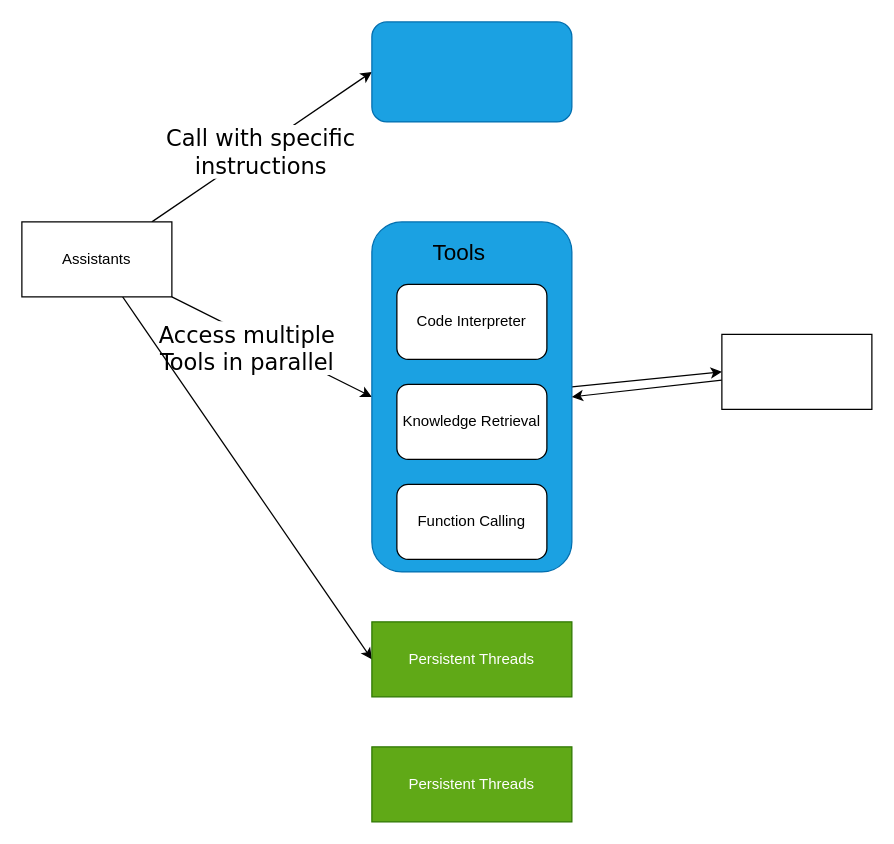
This 894x844 diagram has some shape labels left out. The shapes that lost their labels are listed below. From the top down, each one's centre as x and y in pixels, then its label:
the point at 471,71: OpenAI Models
the point at 796,371: My own tools
